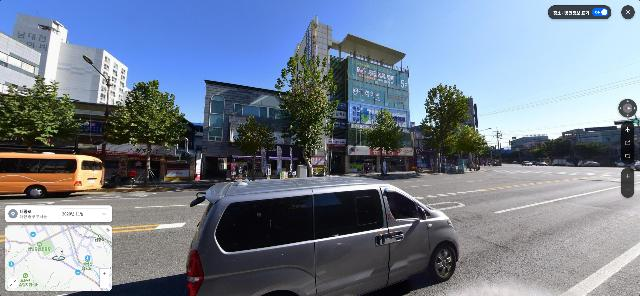other: (276, 50, 342, 179), (111, 79, 190, 186), (0, 72, 86, 152), (417, 84, 487, 174), (230, 115, 278, 181), (363, 107, 407, 176)
